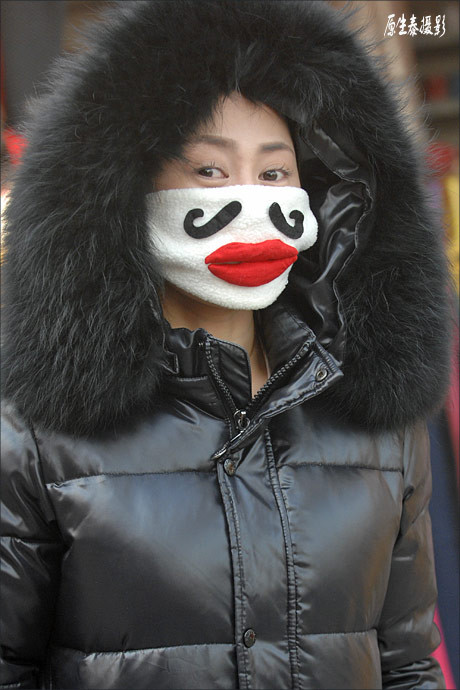face_mask: (151, 107, 318, 311)
